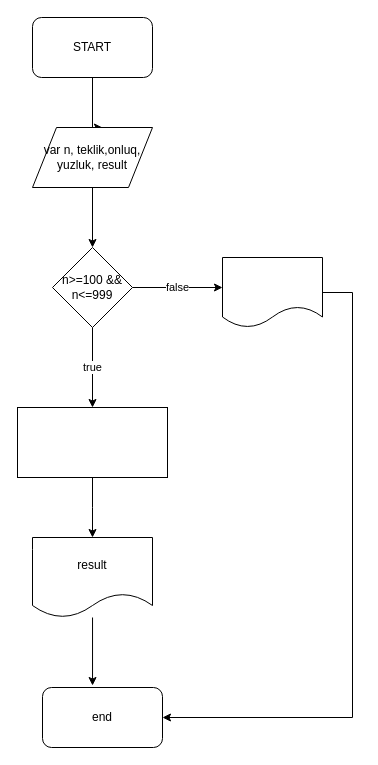
Some shapes in this 378 by 765 pixel diagram are drawn without their labels. Each missing label, with the centre of its shape:
a=n%10 b=(n%100-a)/10 c=(n-10*b-a)/100 result= 100*onluq+10*yuzluk+teklik: the point at 92,442
duzgun reqem daxil edin: the point at 272,292
